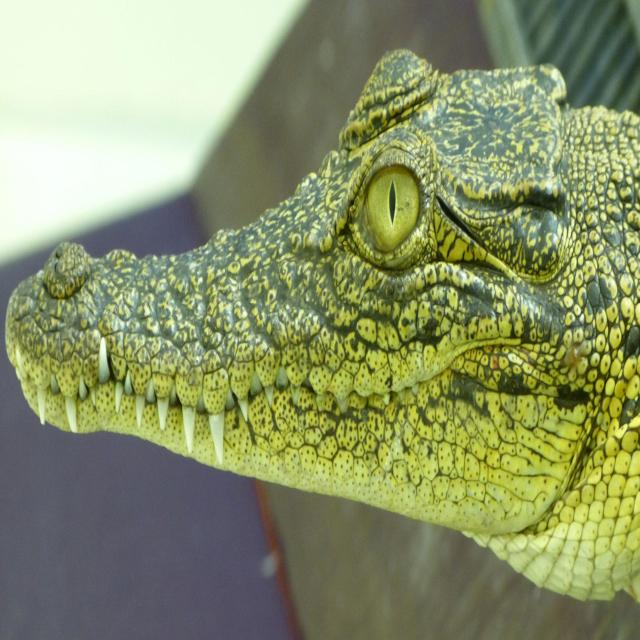crocodile: (5, 50, 640, 609)
